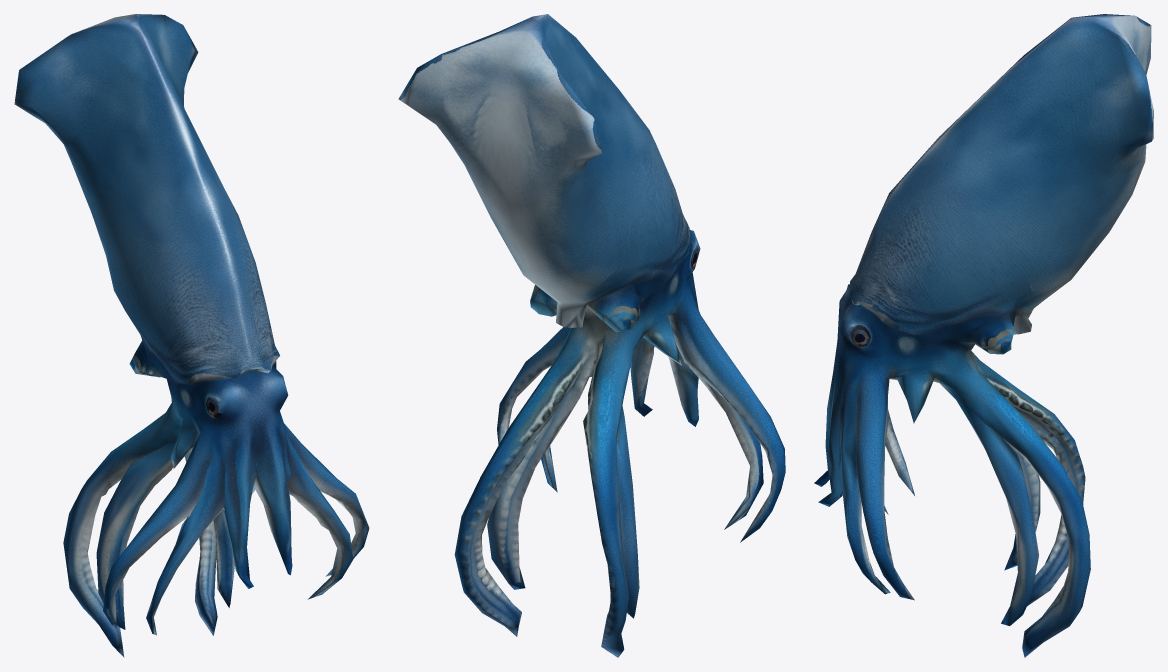
File: squid_single_1500.glb
The picture shows the model from 3 angles, left to right: view 1: azimuth 30°, elevation 25°; view 2: azimuth 150°, elevation 25°; view 3: azimuth 270°, elevation 25°; orthographic projection. The views are drawn at different scales.
Size of the model in its own units: 0.4318 by 0.9505 by 0.4744.
Materials: 1 (1 with a texture image).
